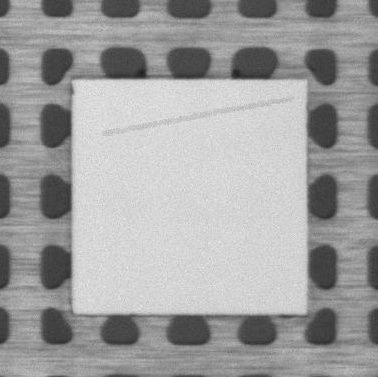DIE_CRACK: (104, 98, 294, 134)
